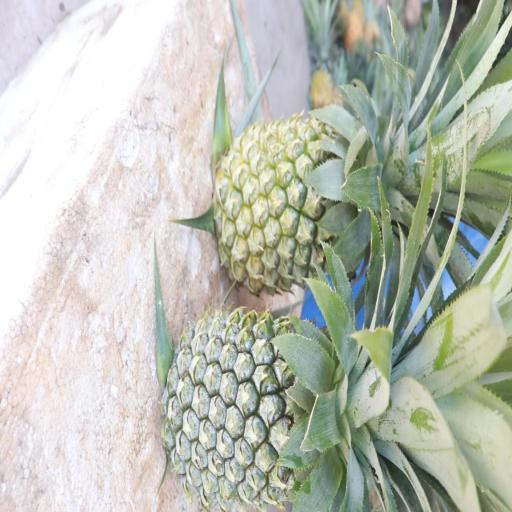Pineapple - v8 v1: (214, 110, 392, 290)
